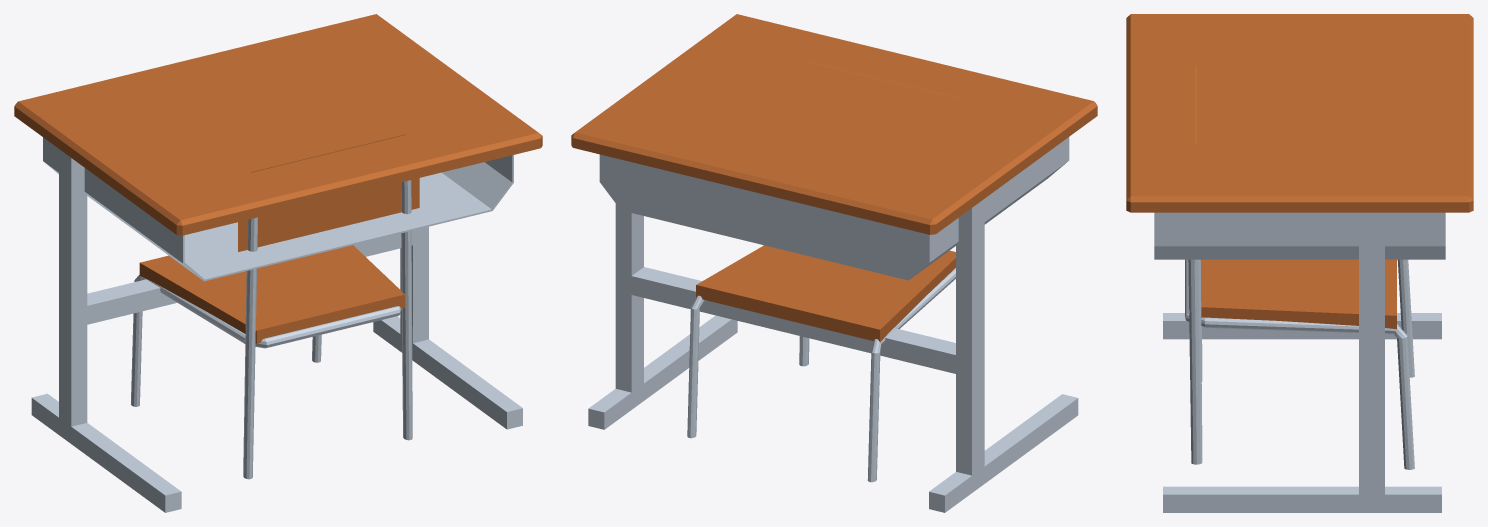
File: Dais001.fbx
The picture shows the model from 3 angles, left to right: view 1: azimuth 30°, elevation 25°; view 2: azimuth 150°, elevation 25°; view 3: azimuth 270°, elevation 25°; orthographic projection. The views are drawn at different scales.
Parts seen in each view (by area): view 1: polySurface683, Chair00; view 2: polySurface683, Chair00; view 3: polySurface683, Chair00.
Part boxes in pixels (x1=…): polySurface683: x1=14, y1=14, x2=542, y2=512; Chair00: x1=131, y1=134, x2=419, y2=479; polySurface683: x1=571, y1=14, x2=1097, y2=512; Chair00: x1=687, y1=61, x2=961, y2=482; polySurface683: x1=1126, y1=14, x2=1473, y2=512; Chair00: x1=1185, y1=65, x2=1414, y2=469.
Size of what is drawn, in the model's own units: 90.18 by 71.77 by 71.16.
